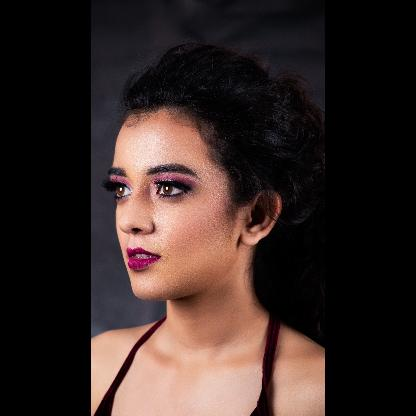Female: (107, 104, 281, 300)
